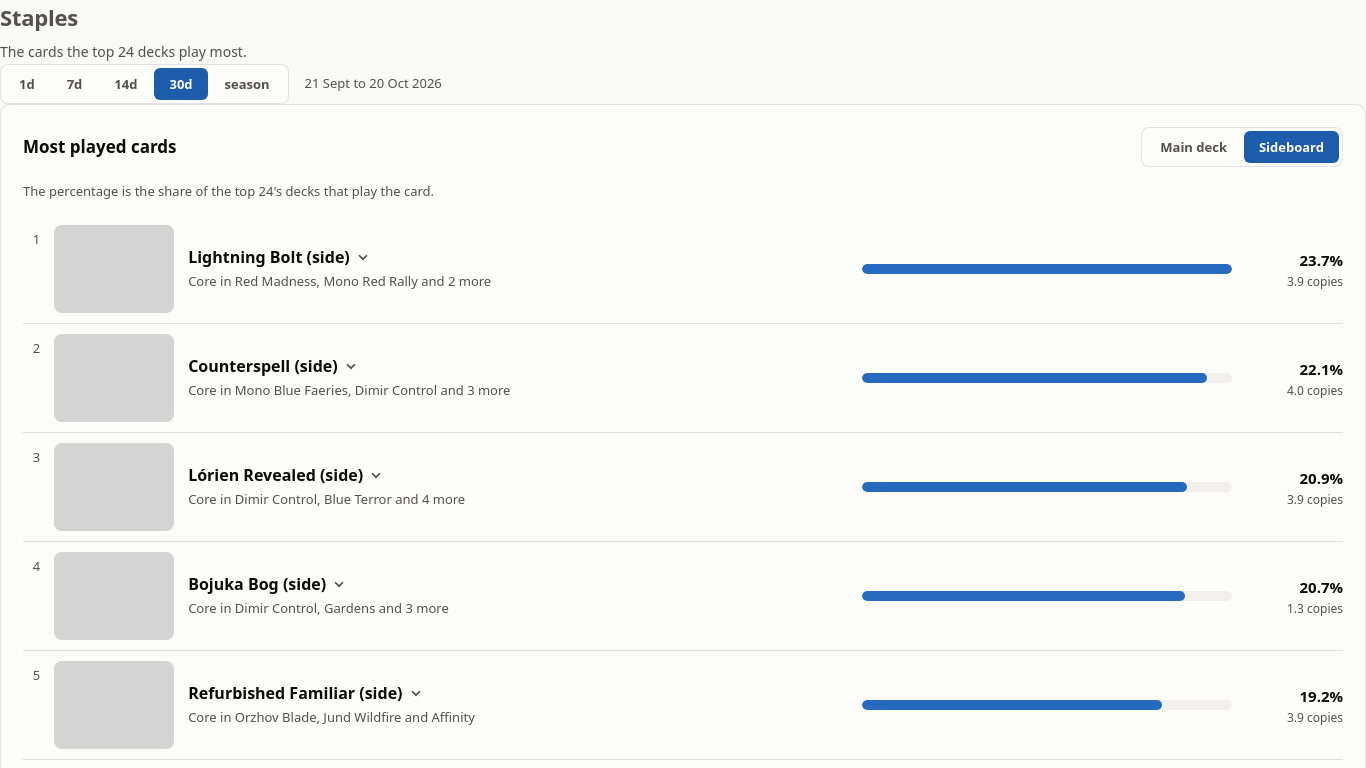
Scenario: StaplesPage › keeps the sideboard in the address when the window changes
Expected: the text "Lightning Bolt (side)" is shown, [188,247,350,267]
Click the button "7d" at (75, 84), box [52,68,97,100]
(page scrolled)
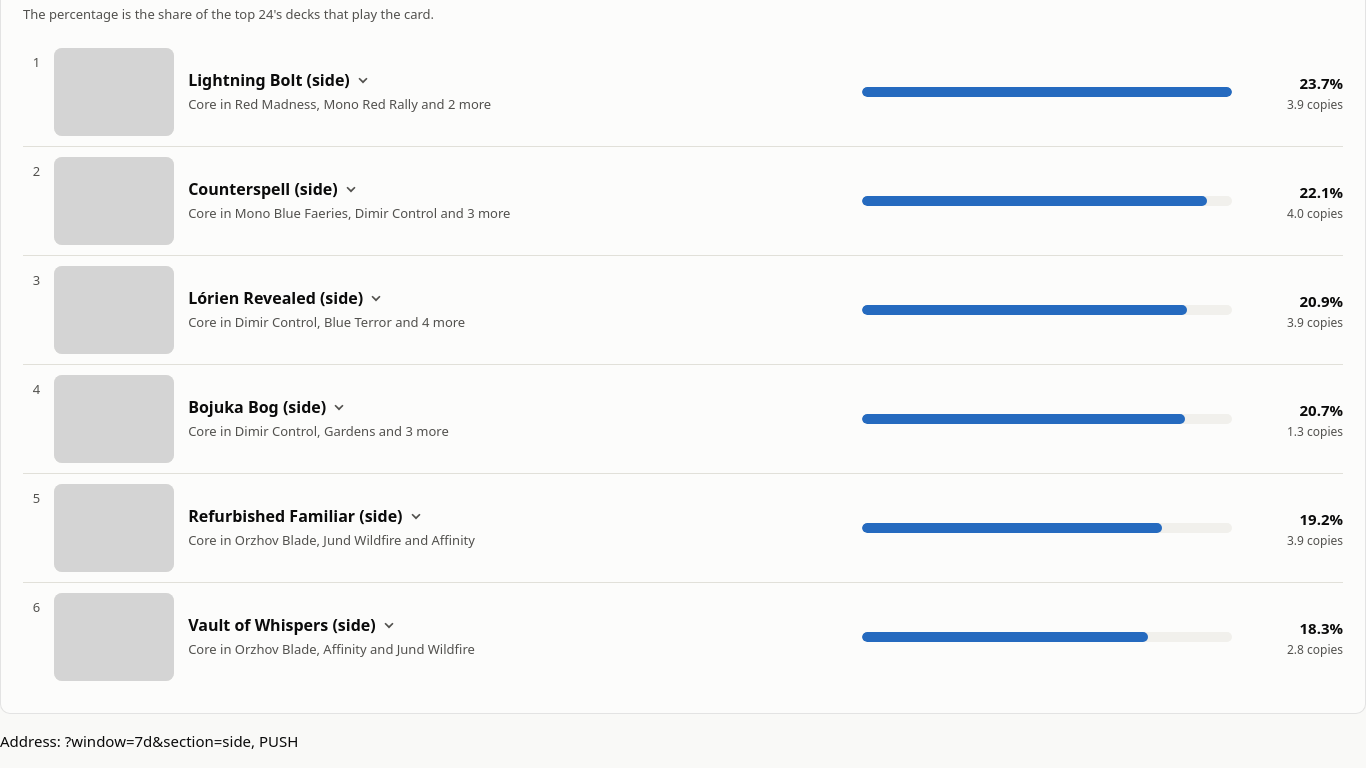
Expected: the text "Address: ?window=7d&section=side, PUSH" is shown, [0,731,298,751]
